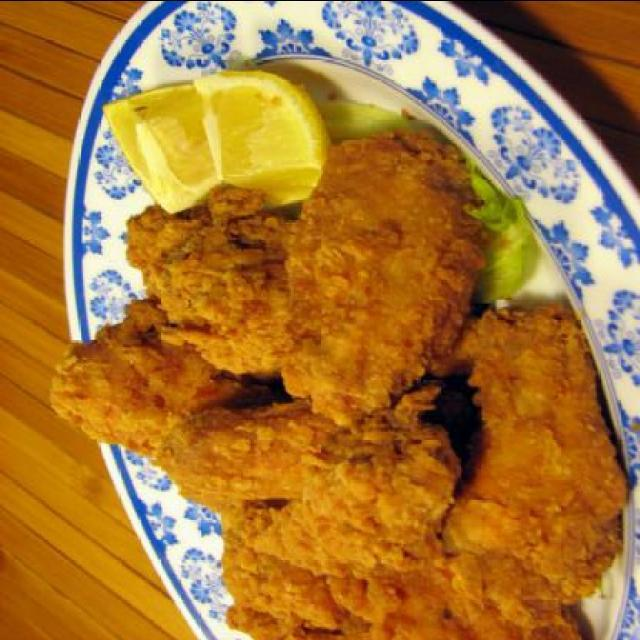Deep fried chicken wing: (73, 176, 596, 639)
